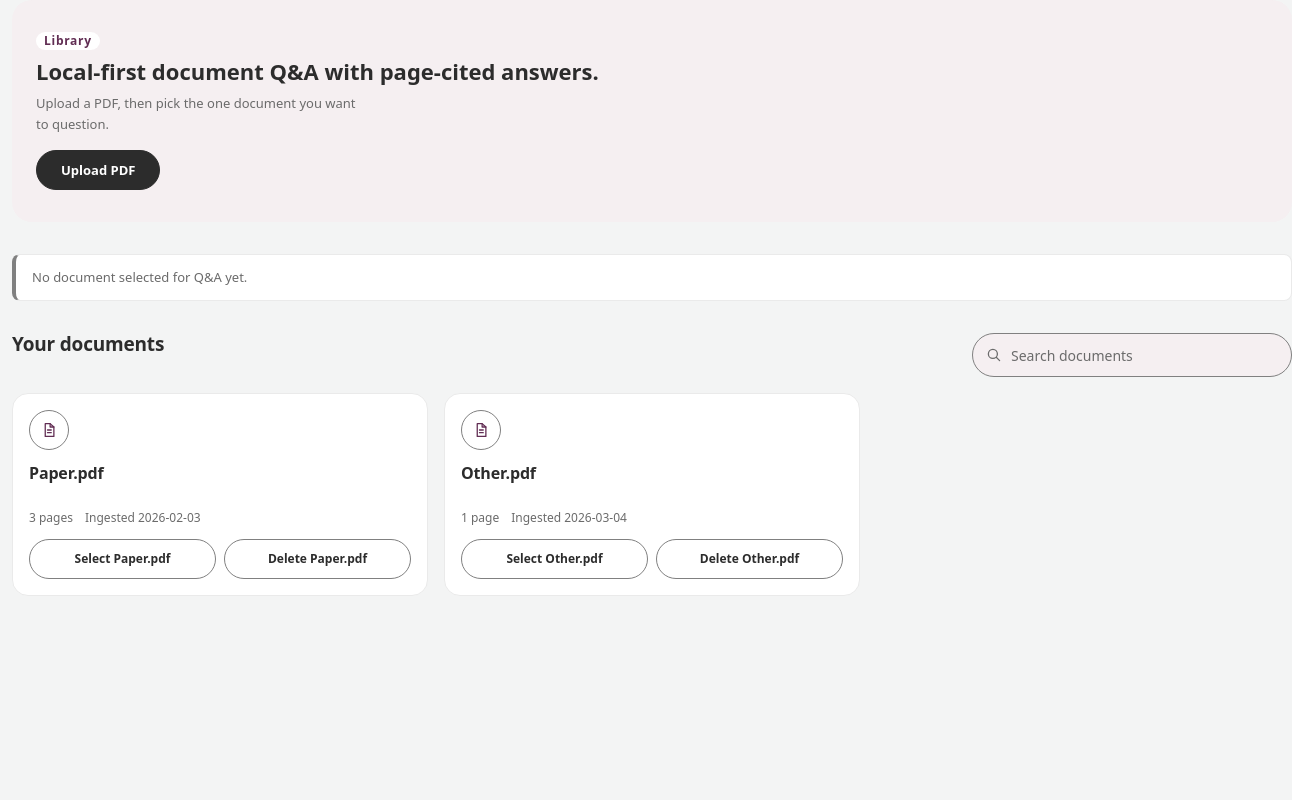
Test: Library minimal landing › keeps the field while the filter matches nothing, because the count is taken before filtering
Expected: the heading "Paper.pdf" is shown, [29, 462, 104, 484]
Type "no such title" into the search field labelled "Search documents" at x=1145, y=355, box [1011, 334, 1279, 376]
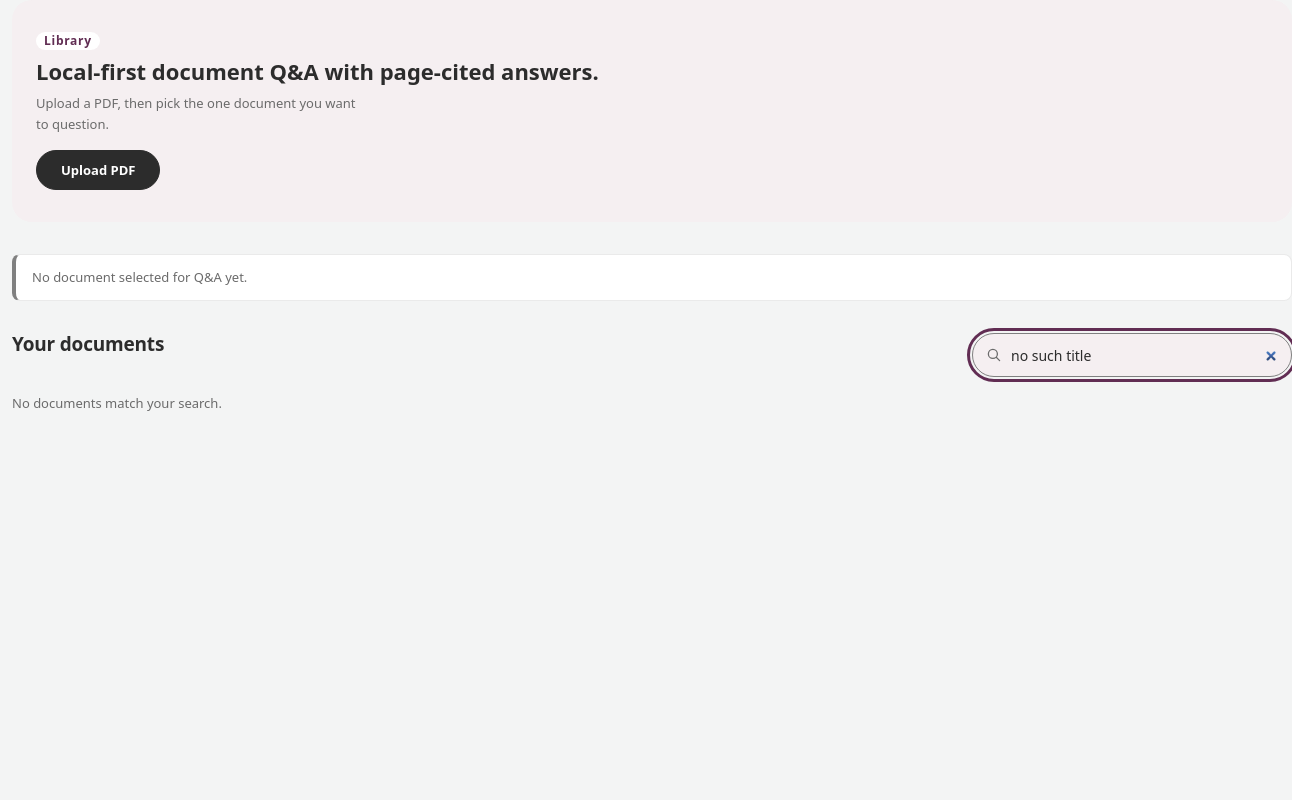
Expected: the text "No documents match your search." is shown, [12, 394, 222, 412]
Expected: the list item "Paper.pdf 3 pages Ingested 2026-02-03 Select Paper.pdf Delete Paper.pdf" is gone
